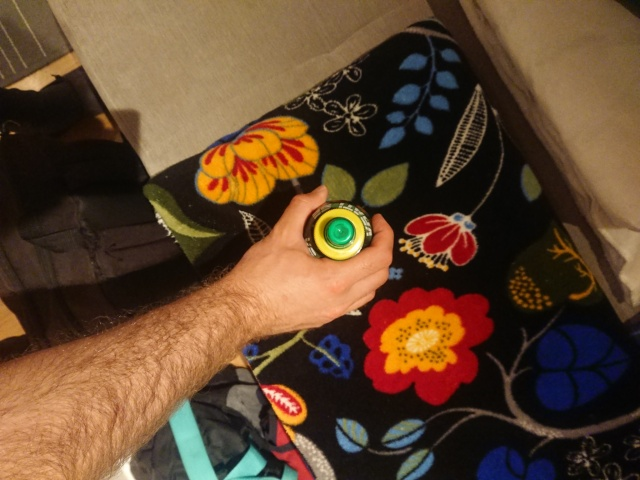Vindi Iso Sport Lemon-Grapefruit 500mL: (300, 198, 376, 271)
